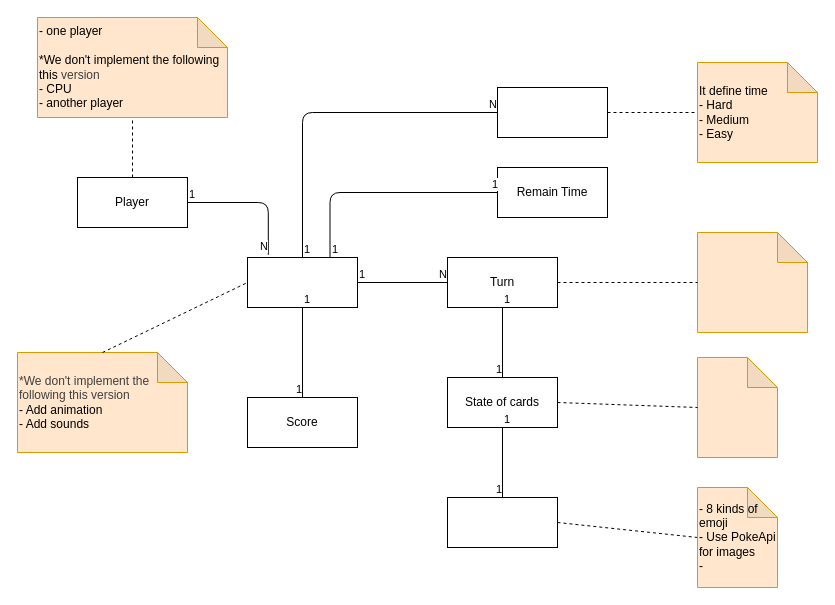
This 835x605 diagram has some shape labels left out. Here are the shapes that lost their labels. From the top down, the box of each, then its label:
(496, 86, 608, 138): Level
(246, 256, 358, 308): Game
(696, 232, 808, 332): - First Select - Second Select
(696, 356, 778, 458): 16 cards
(446, 496, 558, 548): Card
